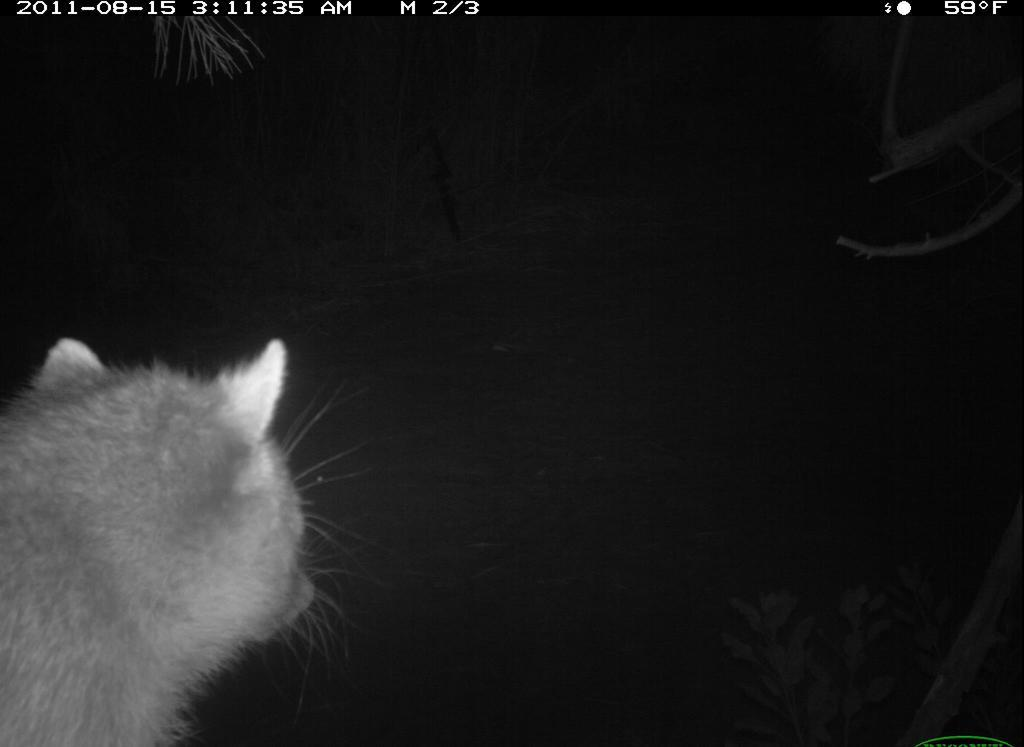raccoon: (3, 326, 353, 747)
